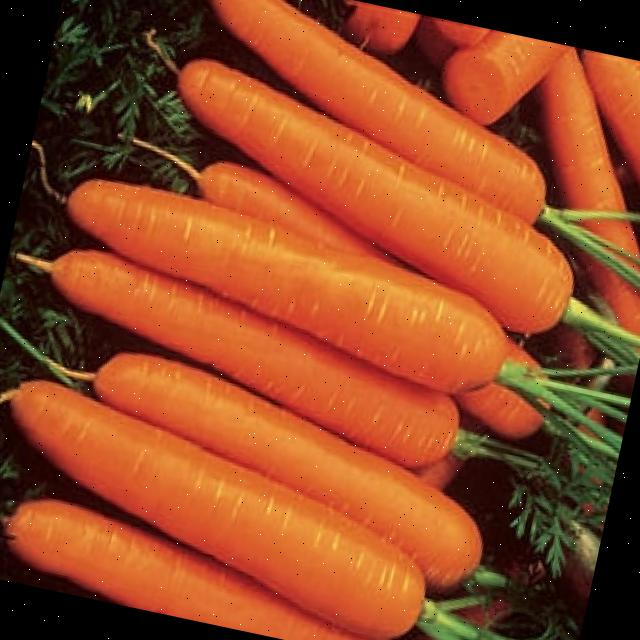carrot: (177, 62, 570, 332), (10, 382, 423, 638), (18, 249, 457, 464), (65, 180, 505, 393), (92, 352, 478, 584), (213, 0, 545, 223), (5, 500, 385, 640), (539, 50, 623, 209), (581, 49, 640, 180), (579, 253, 640, 333), (583, 223, 638, 255)
